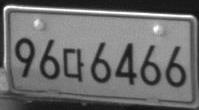4: (114, 42, 137, 86)
6: (164, 45, 187, 88), (89, 41, 111, 84), (139, 44, 161, 86), (38, 39, 60, 80)
9: (13, 37, 35, 78)
다: (62, 47, 84, 82)
